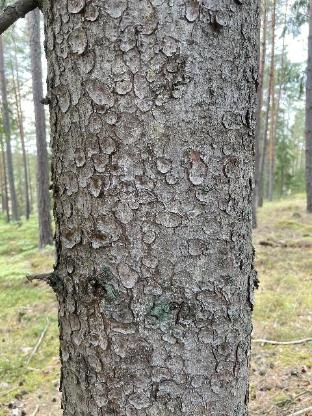tree: (34, 0, 270, 416)
